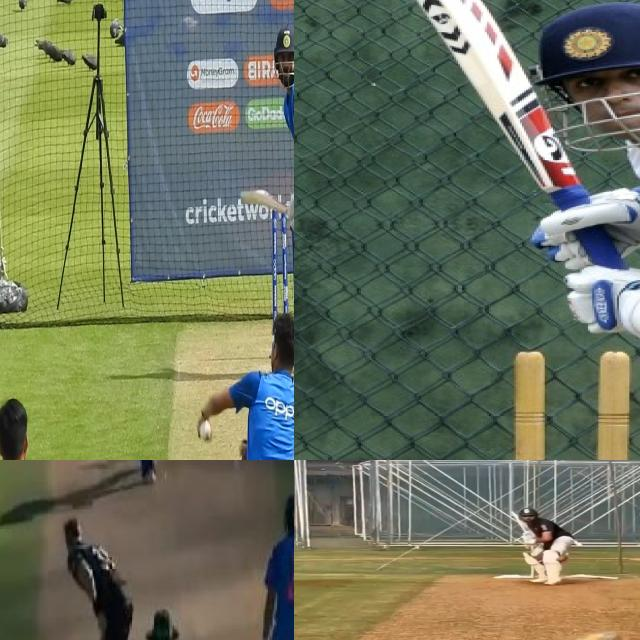Cricket ball: (199, 417, 213, 446), (160, 469, 170, 483), (555, 556, 569, 563)
Stumps: (507, 347, 640, 460)
